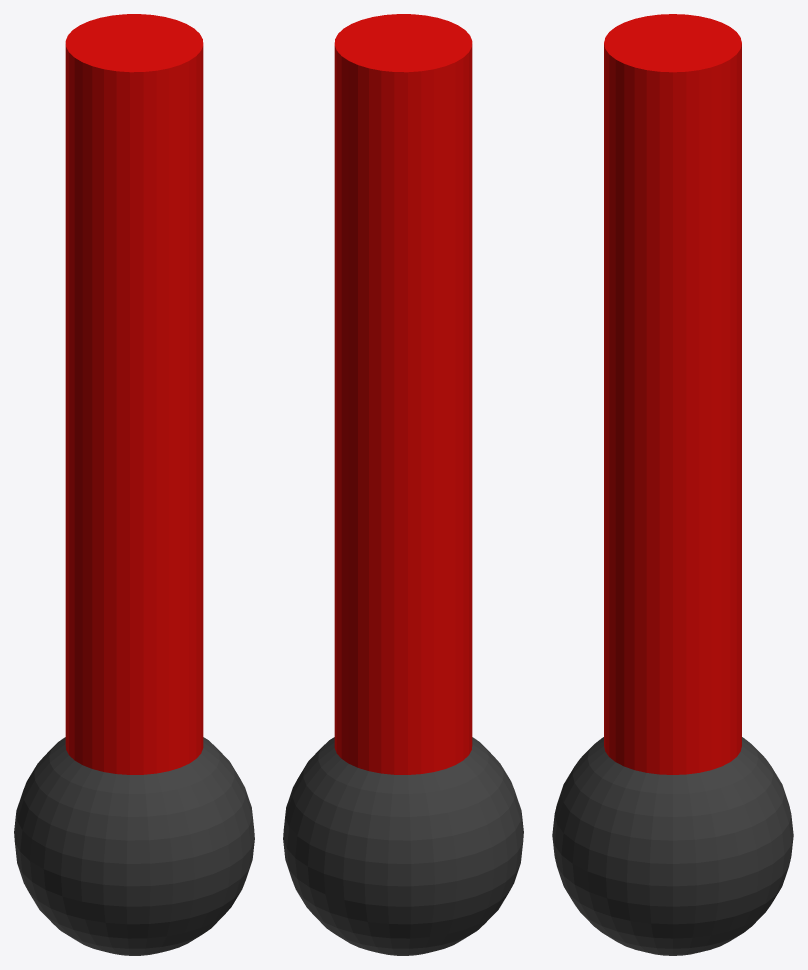
The picture shows the model from 3 angles, left to right: view 1: azimuth 30°, elevation 25°; view 2: azimuth 150°, elevation 25°; view 3: azimuth 270°, elevation 25°; orthographic projection.
Visible parts, largest first — view 1: Sphere; view 2: Sphere; view 3: Sphere.
Boxes of the visible parts, x1=… form: Sphere: x1=14, y1=14, x2=254, y2=955; Sphere: x1=283, y1=14, x2=523, y2=955; Sphere: x1=552, y1=14, x2=793, y2=955.
Size of the model in its own units: 0.0661 by 0.0661 by 0.2724.
